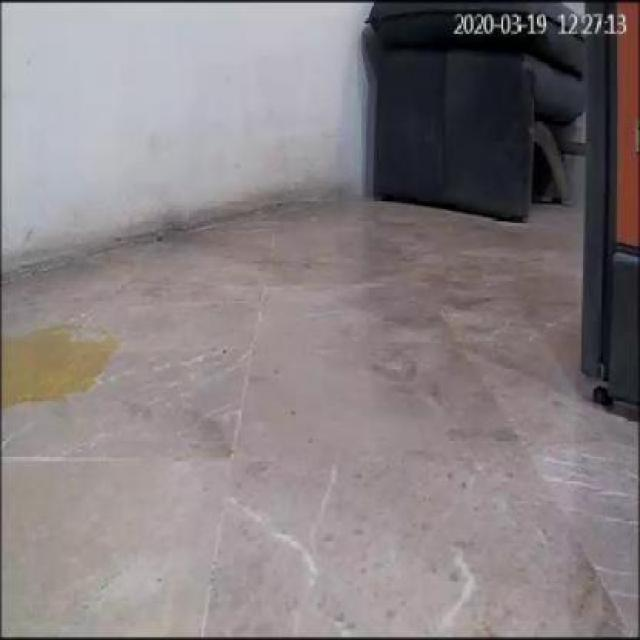spillage: (2, 326, 119, 408)
